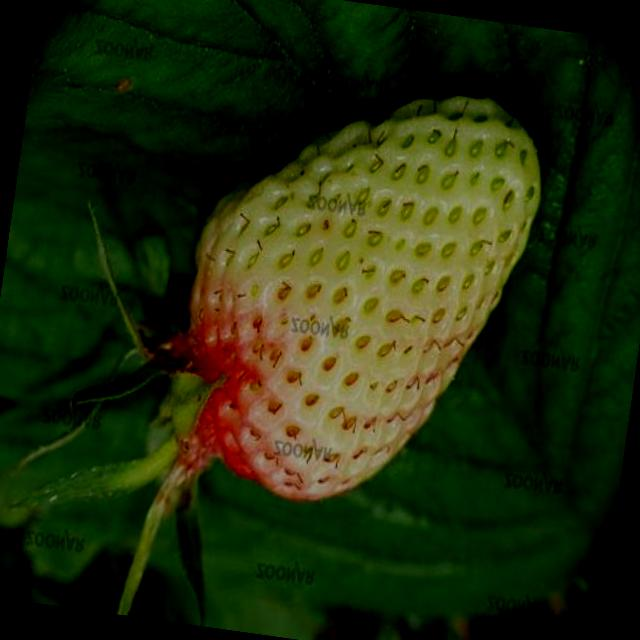Strawberry: (166, 63, 554, 531)
